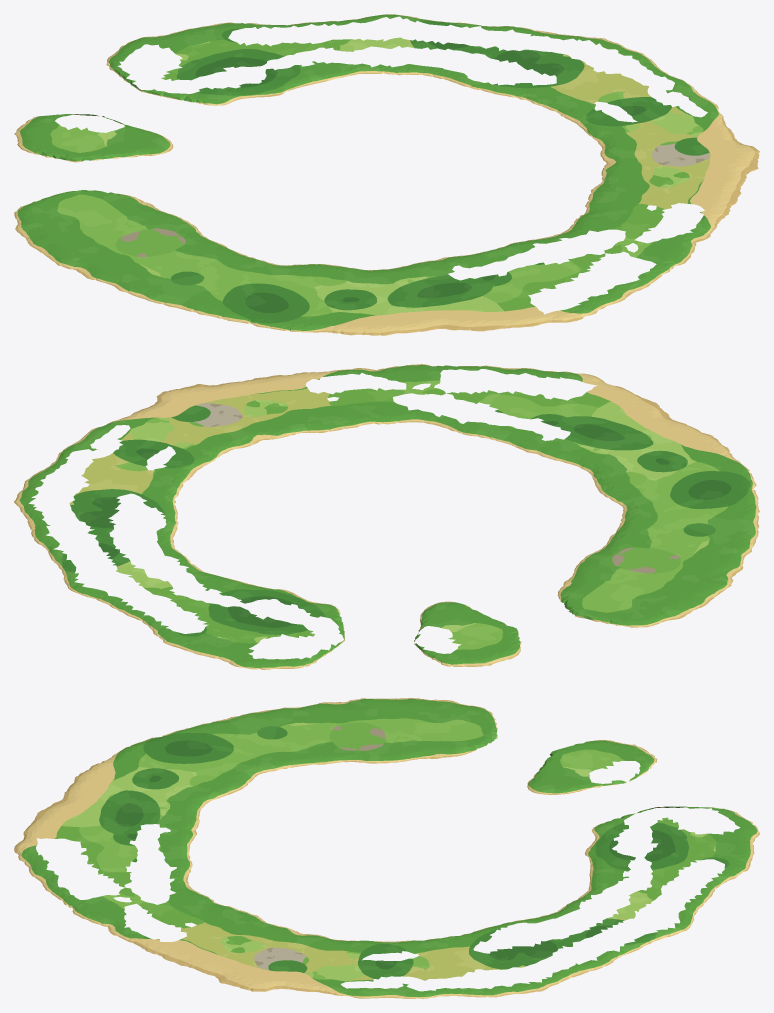
Rendered from Isl-atoll1-Ground.fbx.
3 views of the same model, one above another, from view 1: azimuth 30°, elevation 25°; view 2: azimuth 150°, elevation 25°; view 3: azimuth 270°, elevation 25° (orthographic). The views are drawn at different scales.
Parts seen in each view (by area): view 1: Isl-atoll1-Ground-c11, Isl-atoll1-Ground-c21, Isl-atoll1-Ground-c22, Isl-atoll1-Ground-c12, Isl-atoll1-Ground-c10, Isl-atoll1-Ground-c01, Isl-atoll1-Ground-c31, Isl-atoll1-Ground-c02, Isl-atoll1-Ground-c20, Isl-atoll1-Ground-c13, Isl-atoll1-Ground-c32, Isl-atoll1-Ground-c23; view 2: Isl-atoll1-Ground-c11, Isl-atoll1-Ground-c21, Isl-atoll1-Ground-c22, Isl-atoll1-Ground-c12, Isl-atoll1-Ground-c01, Isl-atoll1-Ground-c10, Isl-atoll1-Ground-c02, Isl-atoll1-Ground-c31, Isl-atoll1-Ground-c23, Isl-atoll1-Ground-c13, Isl-atoll1-Ground-c32, Isl-atoll1-Ground-c20; view 3: Isl-atoll1-Ground-c11, Isl-atoll1-Ground-c21, Isl-atoll1-Ground-c22, Isl-atoll1-Ground-c12, Isl-atoll1-Ground-c10, Isl-atoll1-Ground-c31, Isl-atoll1-Ground-c01, Isl-atoll1-Ground-c02, Isl-atoll1-Ground-c32, Isl-atoll1-Ground-c23, Isl-atoll1-Ground-c20, Isl-atoll1-Ground-c13.
Boxes of the visible parts, bbox=[...] form: Isl-atoll1-Ground-c11: bbox=[104, 219, 529, 333]; Isl-atoll1-Ground-c21: bbox=[486, 104, 745, 283]; Isl-atoll1-Ground-c22: bbox=[222, 14, 647, 123]; Isl-atoll1-Ground-c12: bbox=[14, 57, 272, 235]; Isl-atoll1-Ground-c10: bbox=[340, 283, 577, 335]; Isl-atoll1-Ground-c01: bbox=[43, 236, 216, 316]; Isl-atoll1-Ground-c31: bbox=[646, 93, 759, 179]; Isl-atoll1-Ground-c02: bbox=[14, 196, 108, 253]; Isl-atoll1-Ground-c20: bbox=[530, 245, 694, 320]; Isl-atoll1-Ground-c13: bbox=[106, 30, 222, 82]; Isl-atoll1-Ground-c32: bbox=[541, 31, 698, 104]; Isl-atoll1-Ground-c23: bbox=[184, 14, 399, 57]; Isl-atoll1-Ground-c11: bbox=[497, 405, 758, 579]; Isl-atoll1-Ground-c21: bbox=[129, 368, 541, 470]; Isl-atoll1-Ground-c22: bbox=[30, 451, 289, 624]; Isl-atoll1-Ground-c12: bbox=[243, 563, 654, 666]; Isl-atoll1-Ground-c01: bbox=[655, 504, 759, 596]; Isl-atoll1-Ground-c10: bbox=[543, 374, 729, 452]; Isl-atoll1-Ground-c02: bbox=[597, 578, 714, 627]; Isl-atoll1-Ground-c31: bbox=[79, 383, 226, 450]; Isl-atoll1-Ground-c23: bbox=[67, 584, 241, 655]; Isl-atoll1-Ground-c13: bbox=[203, 625, 332, 669]; Isl-atoll1-Ground-c32: bbox=[14, 441, 128, 527]; Isl-atoll1-Ground-c20: bbox=[385, 364, 587, 405]; Isl-atoll1-Ground-c11: bbox=[97, 724, 392, 849]; Isl-atoll1-Ground-c21: bbox=[97, 847, 392, 973]; Isl-atoll1-Ground-c22: bbox=[390, 847, 684, 973]; Isl-atoll1-Ground-c12: bbox=[389, 723, 684, 850]; Isl-atoll1-Ground-c10: bbox=[14, 763, 103, 850]; Isl-atoll1-Ground-c31: bbox=[206, 970, 391, 998]; Isl-atoll1-Ground-c01: bbox=[198, 698, 392, 726]; Isl-atoll1-Ground-c02: bbox=[390, 698, 496, 726]; Isl-atoll1-Ground-c32: bbox=[390, 969, 584, 998]; Isl-atoll1-Ground-c23: bbox=[678, 847, 754, 932]; Isl-atoll1-Ground-c20: bbox=[14, 847, 103, 924]; Isl-atoll1-Ground-c13: bbox=[678, 806, 759, 850].
Size of the model in its own units: 129 by 0.49 by 135.
